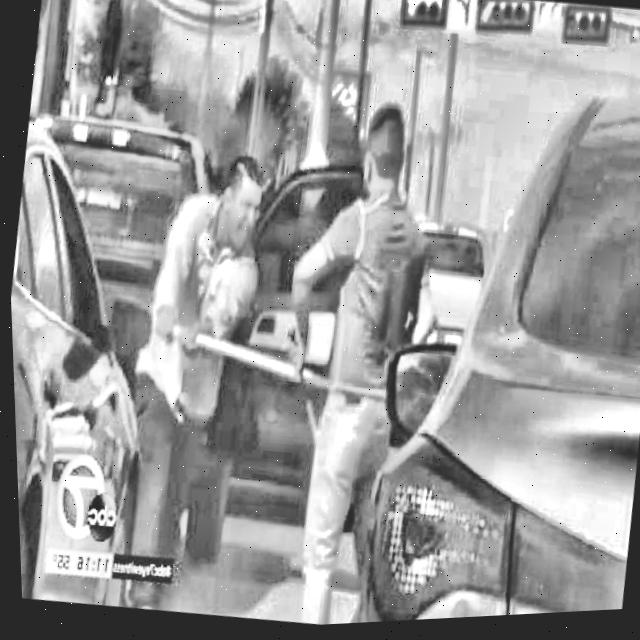tongkat pemukul: (144, 304, 349, 405)
